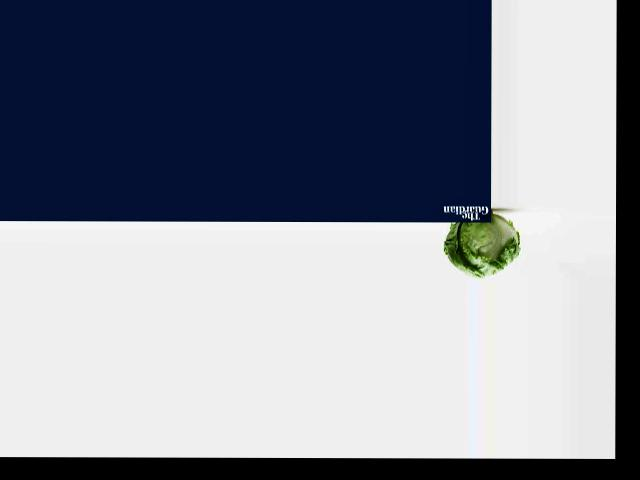lettuce: (445, 213, 519, 281)
